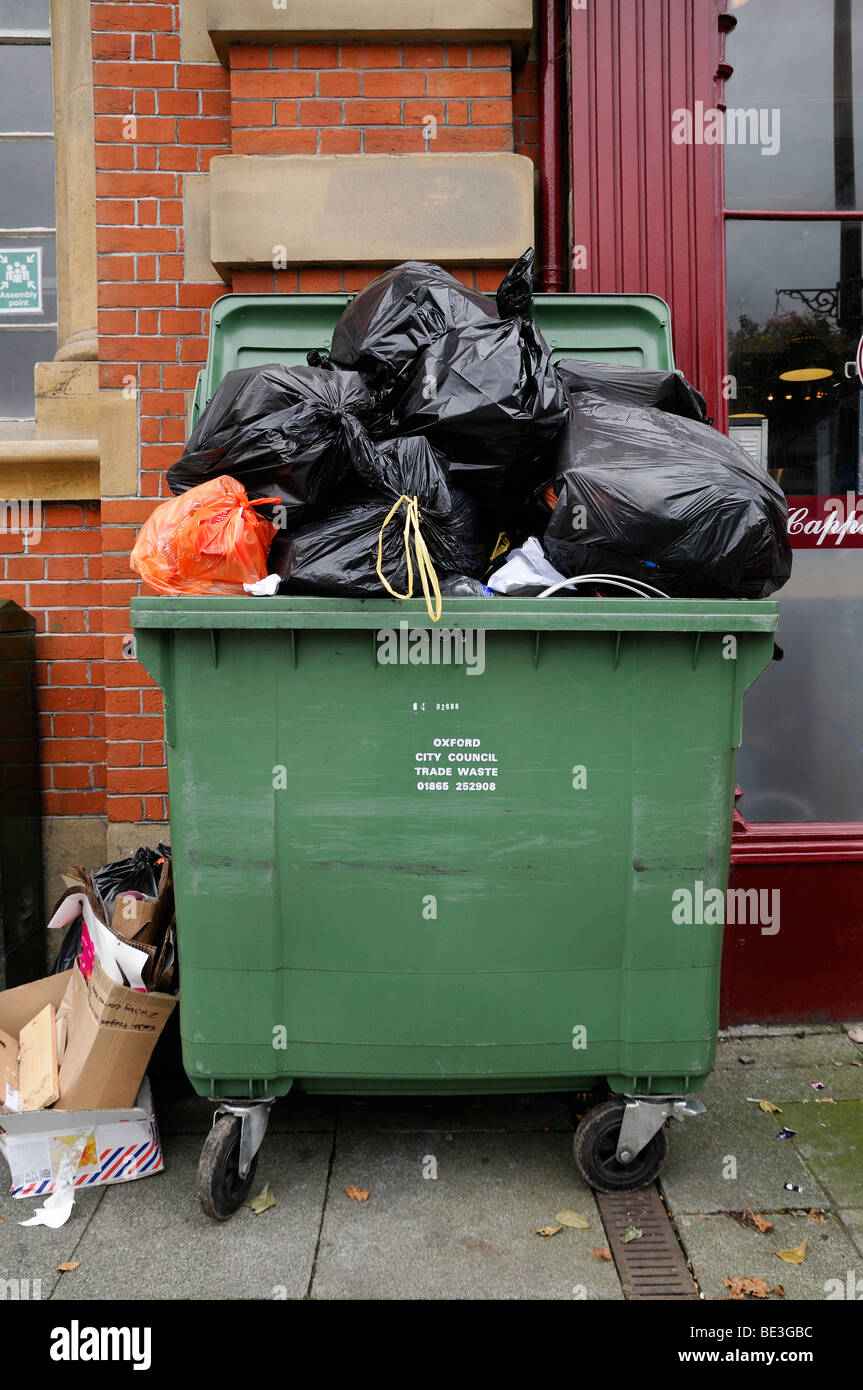partial: (127, 586, 785, 1138)
